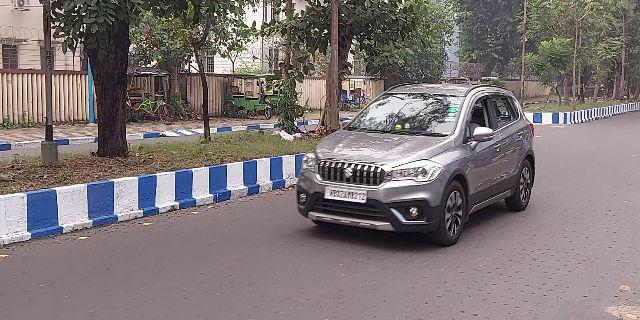Car: (292, 81, 540, 248)
